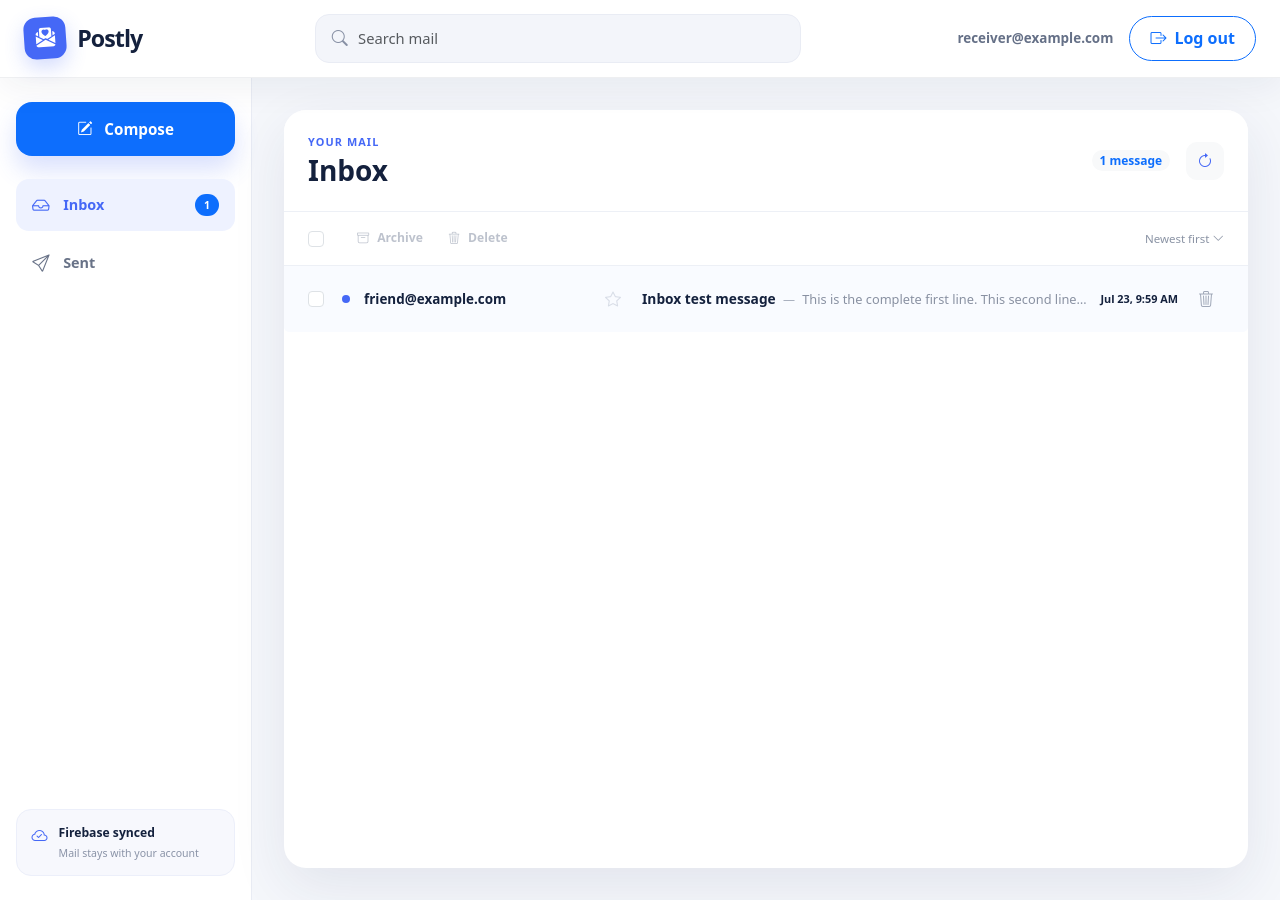
Test: Inbox component › opens the complete message and persists its read status in Firebase
Click the button named "Open message: Inbox test message": point(766, 299) [284,266,1248,332]
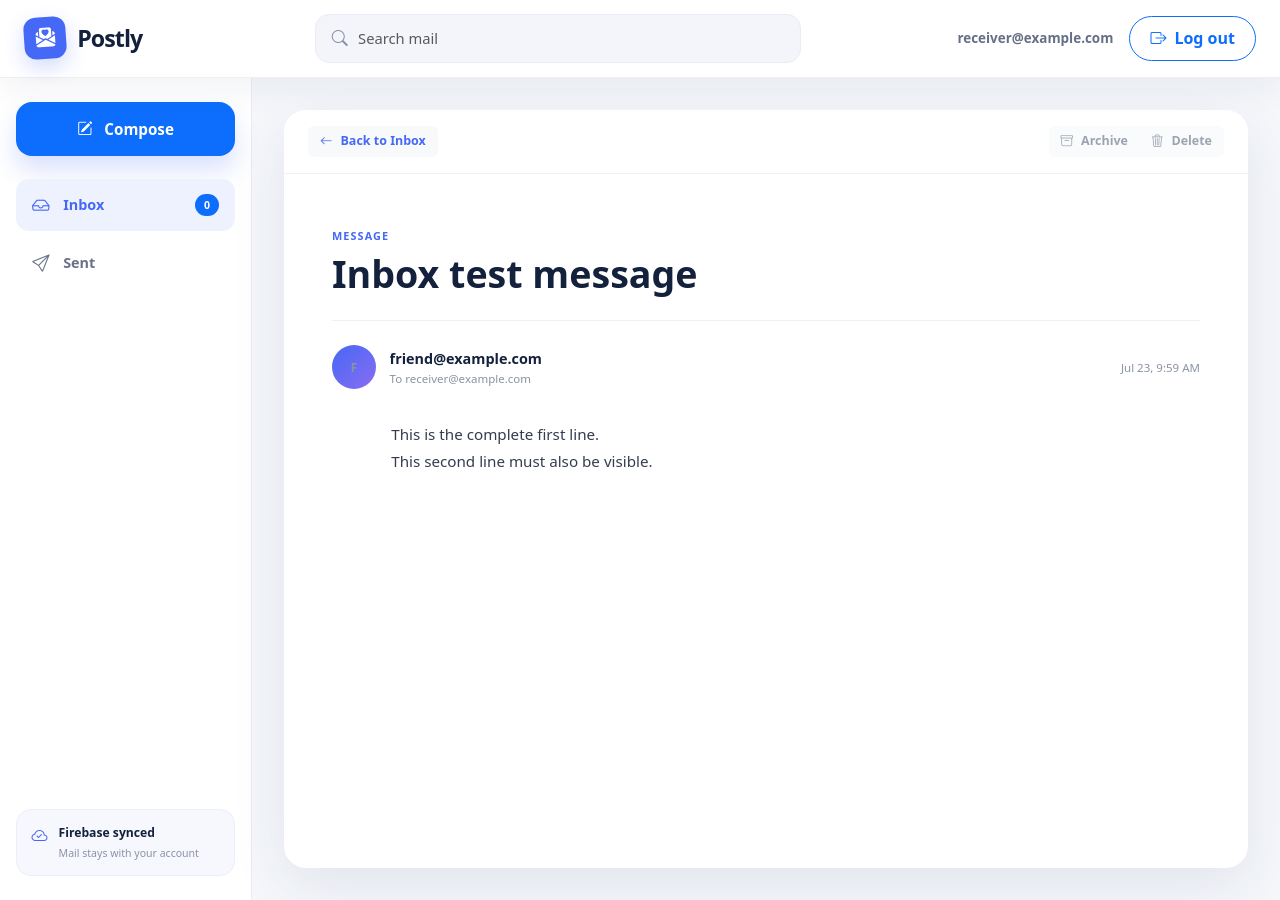
Expected: the text "This is the complete first line. This second line must also be visible." is shown, [391,424,653,471]
Result: the heading "Inbox test message" is shown at [332,248,698,299]
